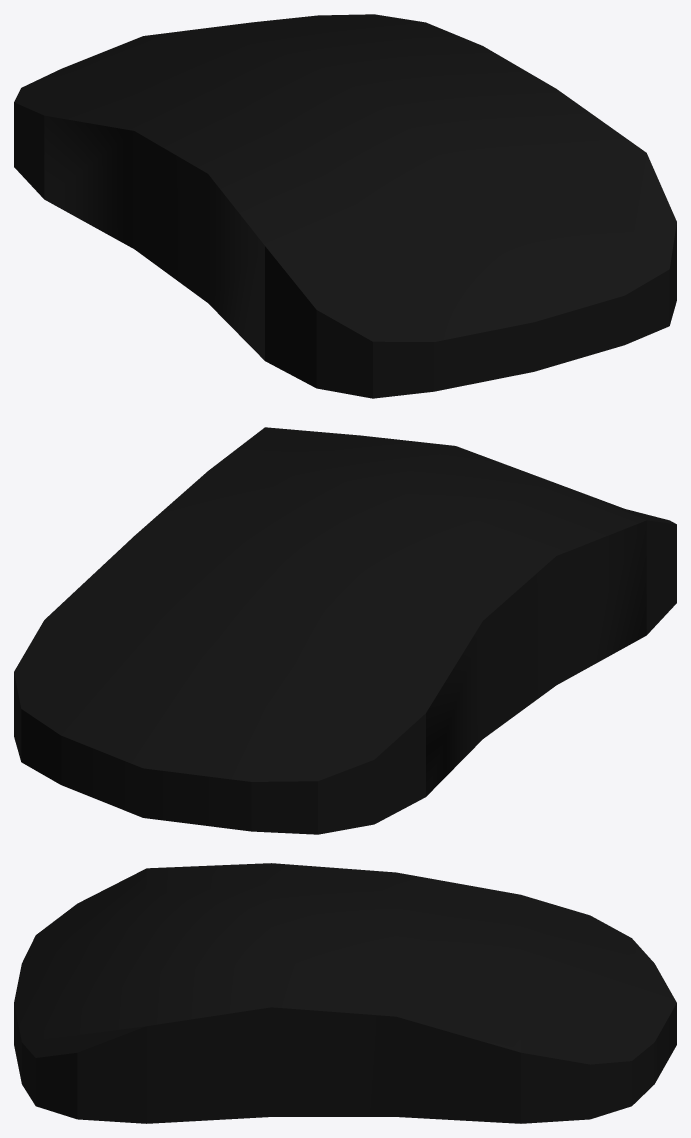
File: mouse.FBX
3 renders of one model, top to bottom at view 1: azimuth 30°, elevation 25°; view 2: azimuth 150°, elevation 25°; view 3: azimuth 270°, elevation 25°, orthographic. The views are drawn at different scales.
Visible parts, largest first — view 1: mouse; view 2: mouse; view 3: mouse.
Boxes of the visible parts, bbox=[...] form: mouse: bbox=[14, 14, 676, 398]; mouse: bbox=[14, 427, 676, 834]; mouse: bbox=[14, 863, 676, 1123].
Size of the model in its own units: 3.71 by 1.46 by 6.58.
